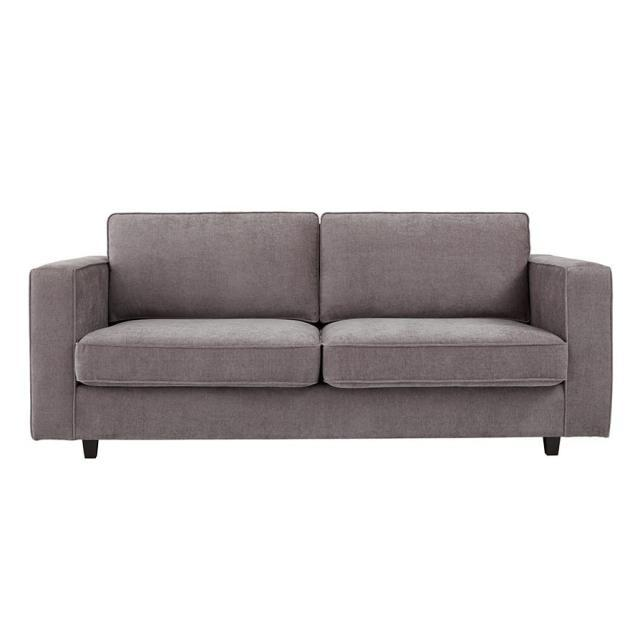sofa: (27, 209, 614, 459)
